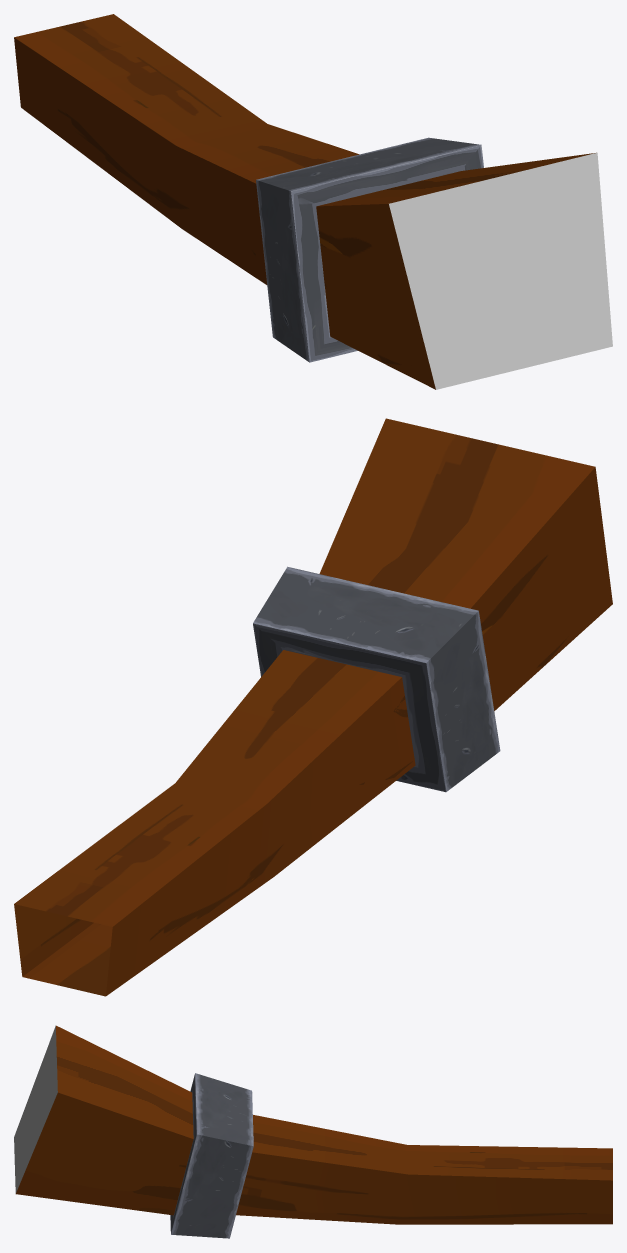
File: SM_BLD_beam_small_v06_02.fbx
3 renders of one model, top to bottom at view 1: azimuth 30°, elevation 25°; view 2: azimuth 150°, elevation 25°; view 3: azimuth 270°, elevation 25°, orthographic. The views are drawn at different scales.
Parts seen in each view (by area): view 1: SM_BLD_beam_small_v06_02; view 2: SM_BLD_beam_small_v06_02; view 3: SM_BLD_beam_small_v06_02.
Boxes of the visible parts, left/top/right/bottom form: SM_BLD_beam_small_v06_02: left=14, top=14, right=612, bottom=389; SM_BLD_beam_small_v06_02: left=14, top=418, right=612, bottom=996; SM_BLD_beam_small_v06_02: left=14, top=1025, right=612, bottom=1238.
Bounding box in the file's own units: 88.96 × 95.67 × 340.
